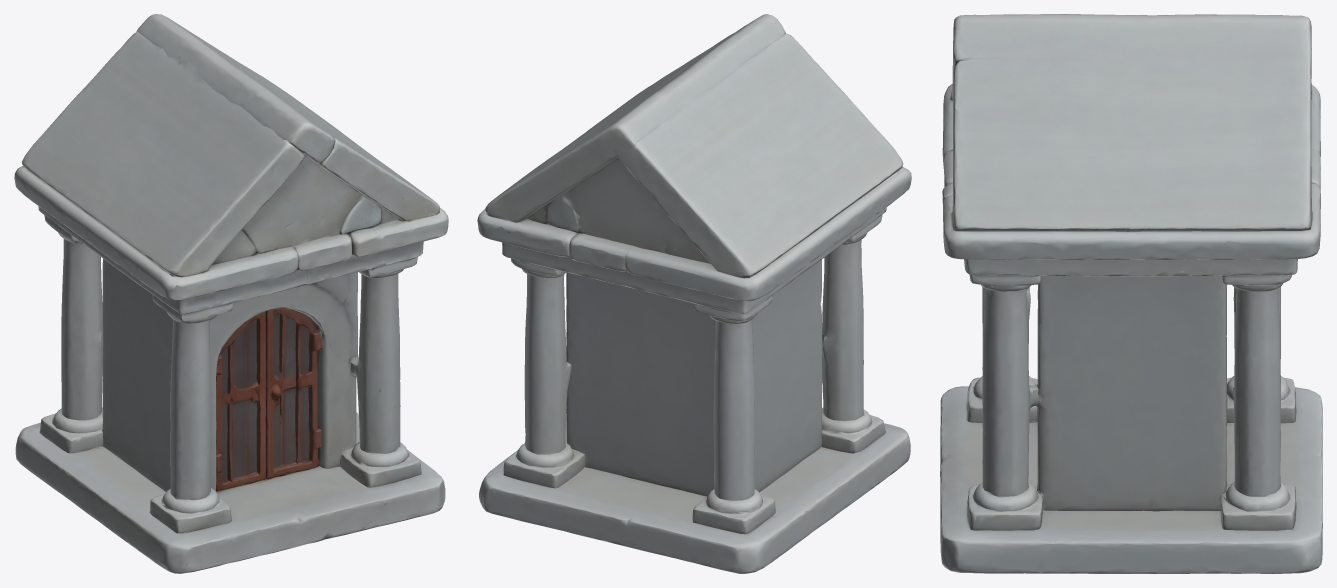
Rendered from crypt.glb.
The picture shows the model from 3 angles, left to right: view 1: azimuth 30°, elevation 25°; view 2: azimuth 150°, elevation 25°; view 3: azimuth 270°, elevation 25°; orthographic projection. The views are drawn at different scales.
Visible parts, largest first — view 1: Mesh; view 2: Mesh; view 3: Mesh.
Part boxes in pixels (left/top/right/bottom): Mesh: left=14, top=14, right=448, bottom=573; Mesh: left=477, top=14, right=911, bottom=573; Mesh: left=940, top=14, right=1322, bottom=573.
Size of the model in its own units: 1.37 by 1.91 by 1.38.
1 material, 1 textured.
